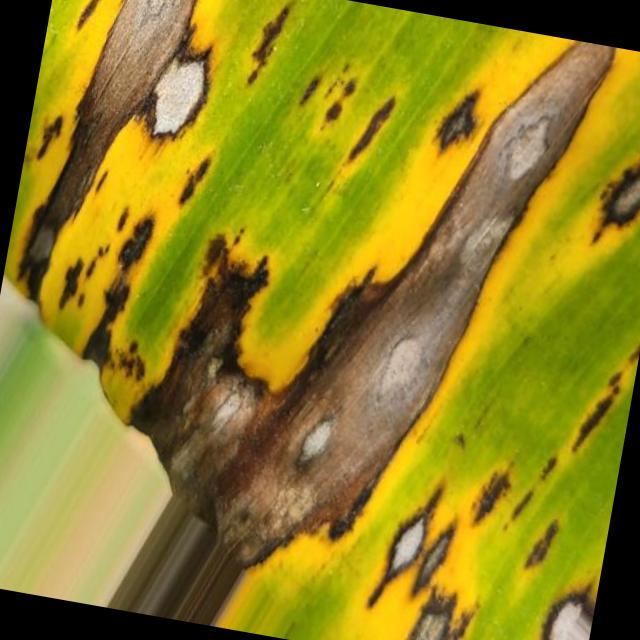Banana_Yellow_Sigatoka: (143, 224, 470, 591), (5, 0, 226, 364), (439, 31, 640, 275)
